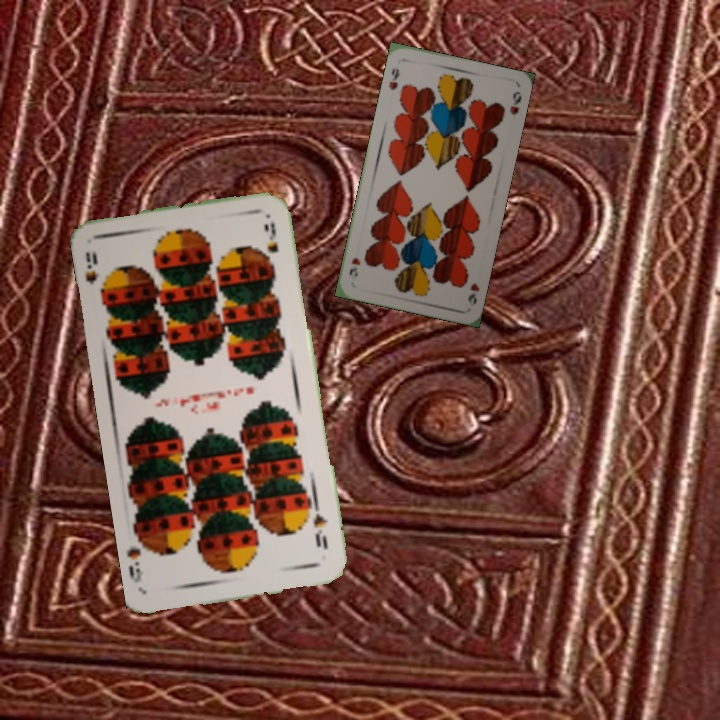H9: (464, 279, 482, 308), (384, 64, 402, 92)
S9: (81, 248, 110, 301), (309, 501, 330, 552)
